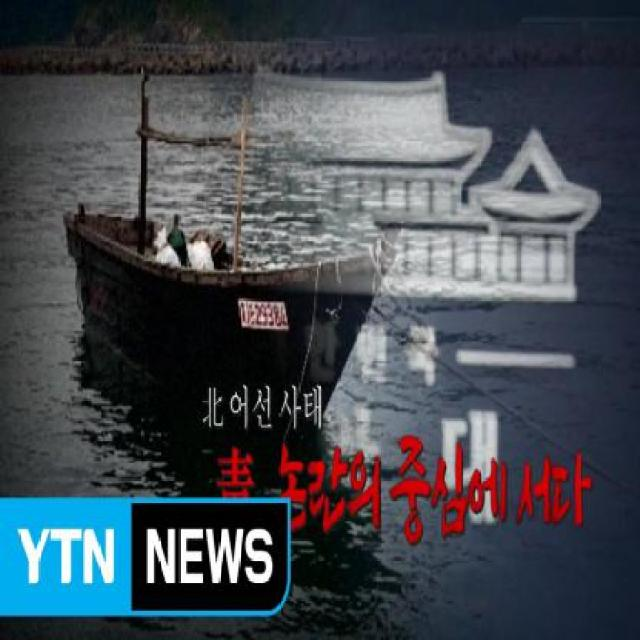fish-b: (56, 71, 398, 420)
